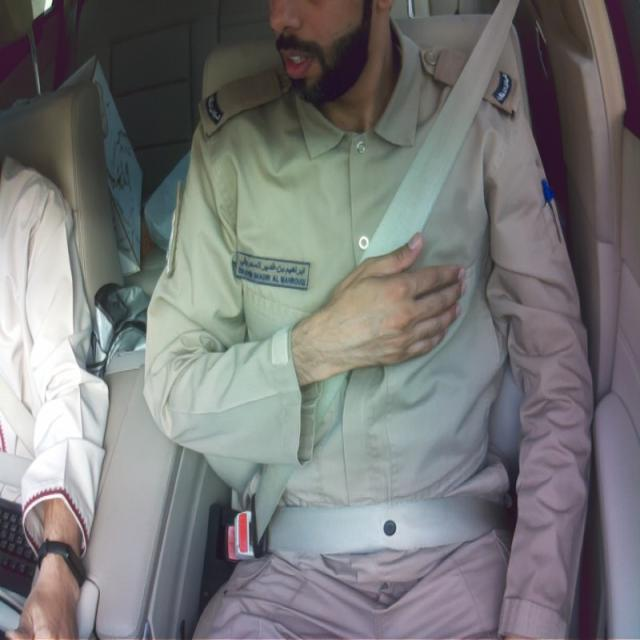seatbelt: (361, 0, 517, 261), (255, 465, 506, 555), (315, 373, 348, 424)
